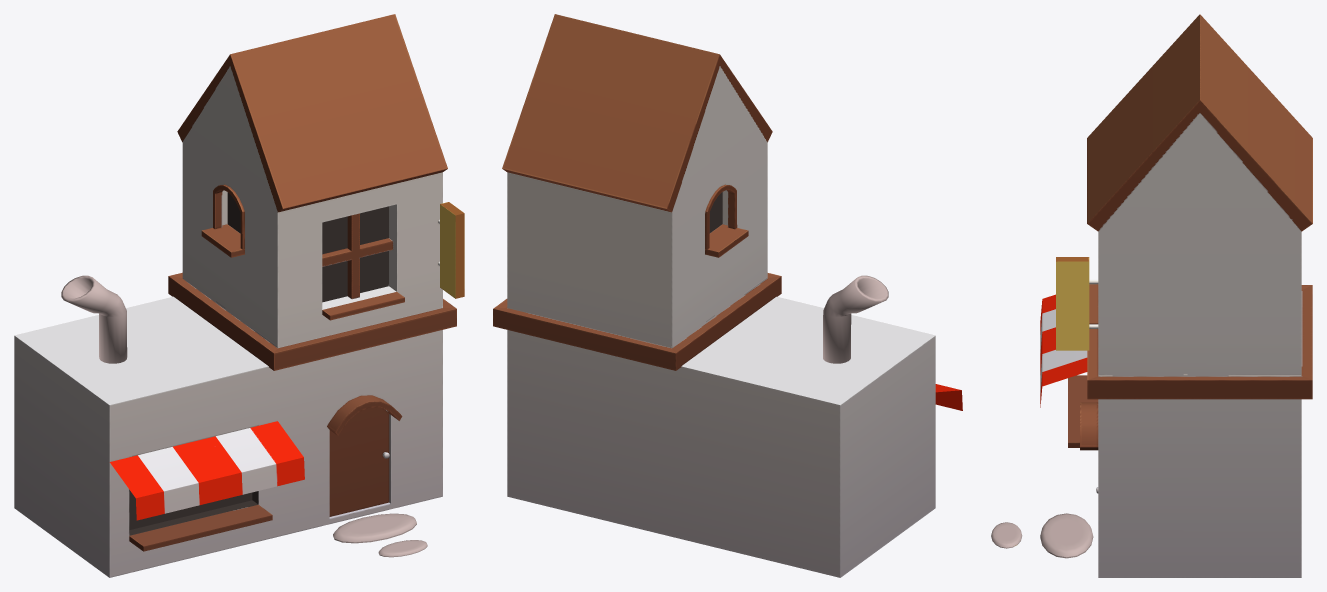
File: reatairant.fbx
3 views of the same model, side by side, from view 1: azimuth 30°, elevation 25°; view 2: azimuth 150°, elevation 25°; view 3: azimuth 270°, elevation 25° (orthographic). The views are drawn at different scales.
Parts seen in each view (by area): view 1: Cube.009; view 2: Cube.009; view 3: Cube.009.
Part boxes in pixels (x1,y1,x2,y2): Cube.009: (14, 14, 464, 577); Cube.009: (493, 14, 962, 577); Cube.009: (991, 14, 1312, 577).
Bounding box in the file's own units: 415 × 521 × 316.
1 material, 1 textured.
